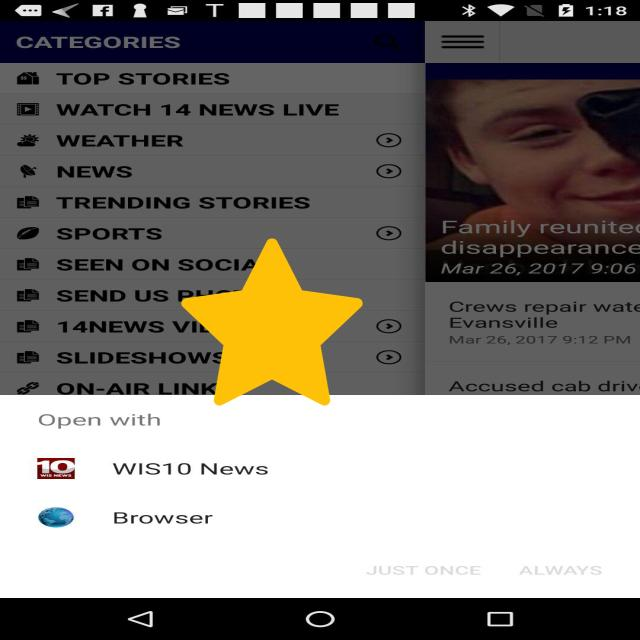forced continuity: (181, 238, 363, 406)
